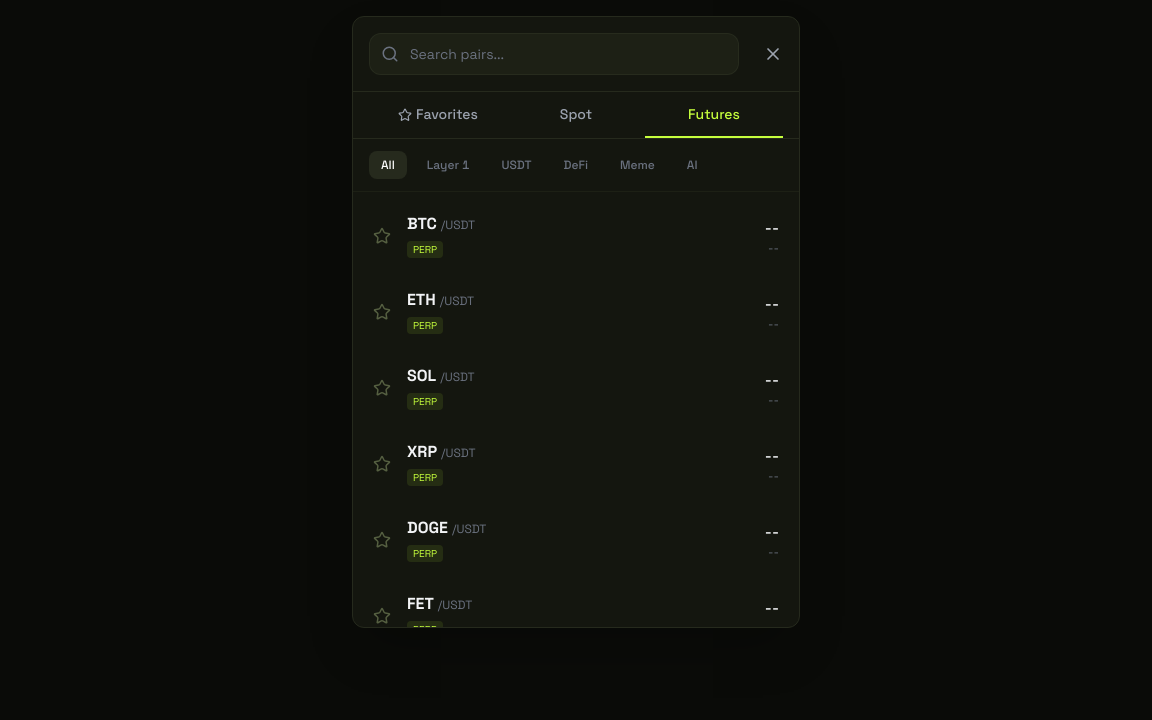
Test: MarketSelector › 15. Category filtering
Note: Select Meme category
Click the button "Meme" at {"x": 638, "y": 165}, box [608,151,667,179]
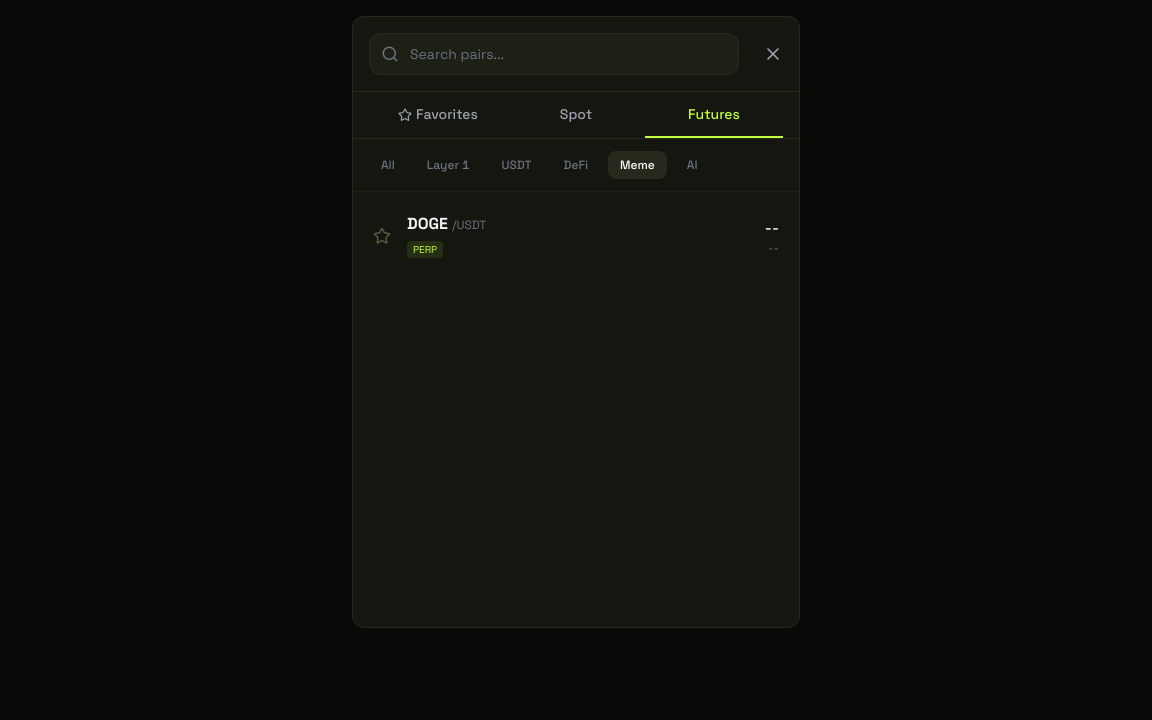
Check: the text "DOGE" is shown, box [407,212,448,236]
Check: the text "BTC" is gone
